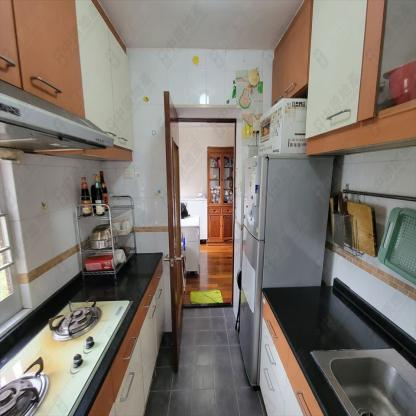Cupboard: (86, 258, 165, 415)
Exhaust Hood: (0, 81, 112, 159)
Fridge: (237, 154, 334, 387)
Sink: (311, 348, 416, 415)
Stove: (1, 300, 130, 415)
